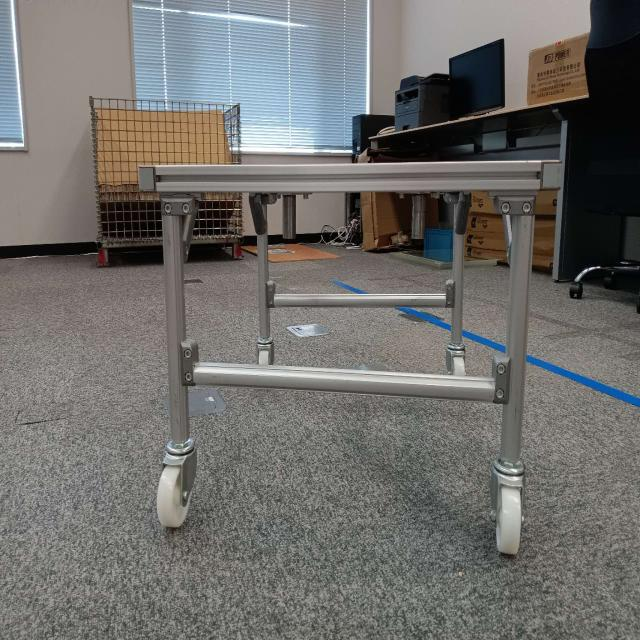side: (158, 160, 522, 405)
